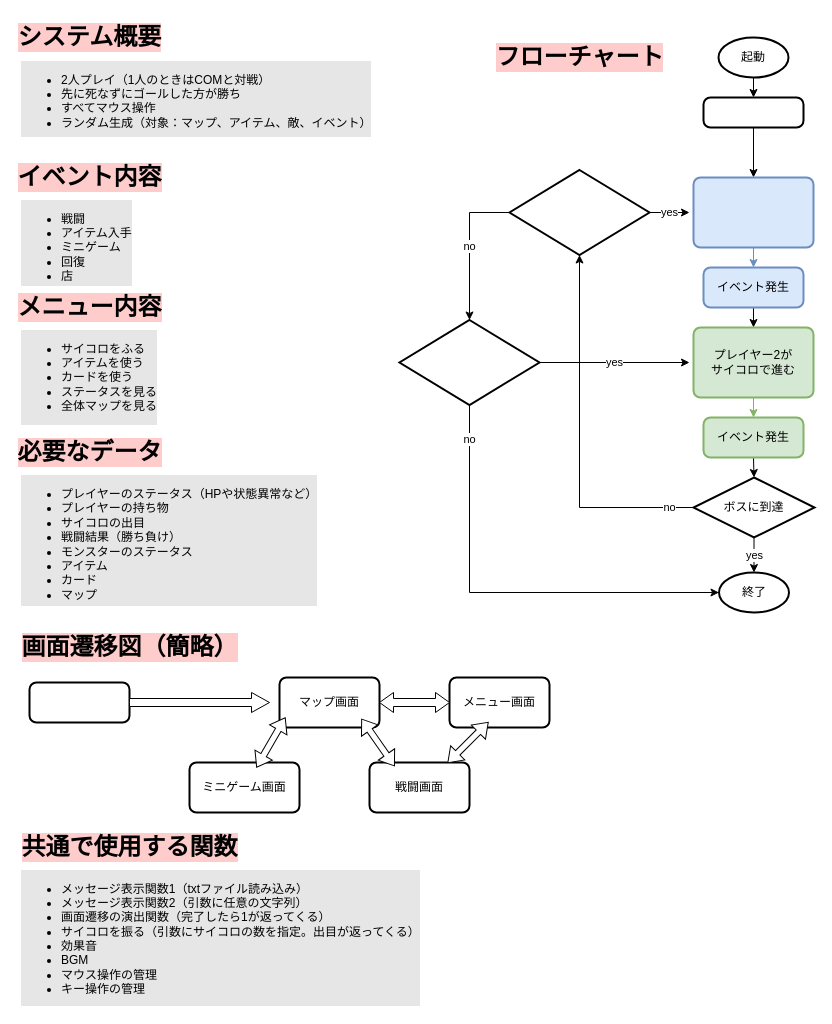
Some shapes in this 832 by 1024 pixel diagram are drawn without their labels. Here are the shapes that lost their labels. From the top down, the centre of each, then its label:
At (x=753, y=112): "タイトル".
At (x=579, y=212): "プレイヤー1が生存".
At (x=753, y=212): "プレイヤー1が サイコロで進む".
At (x=469, y=362): "プレイヤー2が生存".
At (x=79, y=702): "タイトル画面".
